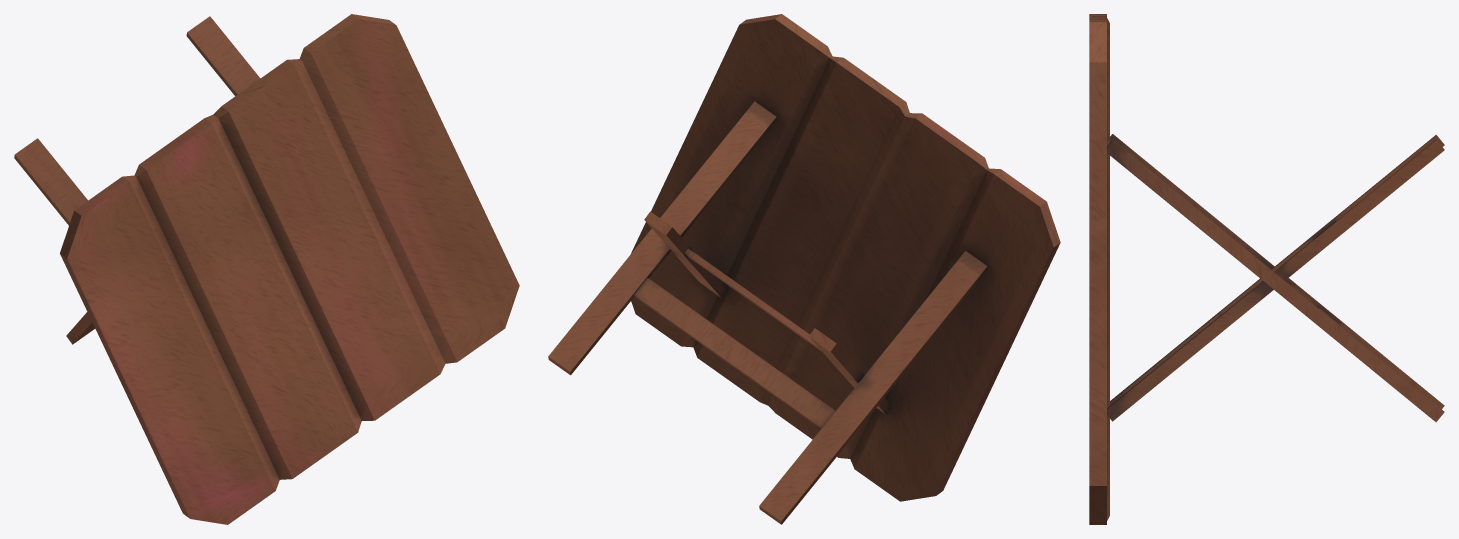
The model's file is Mesa.fbx.
3 views of the same model, side by side, from view 1: azimuth 30°, elevation 25°; view 2: azimuth 150°, elevation 25°; view 3: azimuth 270°, elevation 25° (orthographic). The views are drawn at different scales.
Parts seen in each view (by area): view 1: Mesa.002; view 2: Mesa.002; view 3: Mesa.002.
Part boxes in pixels (x1,y1,x2,y2): Mesa.002: [14, 14, 519, 524]; Mesa.002: [548, 14, 1060, 524]; Mesa.002: [1089, 14, 1444, 524].
Size of the model in its own units: 351 by 351 by 198.
